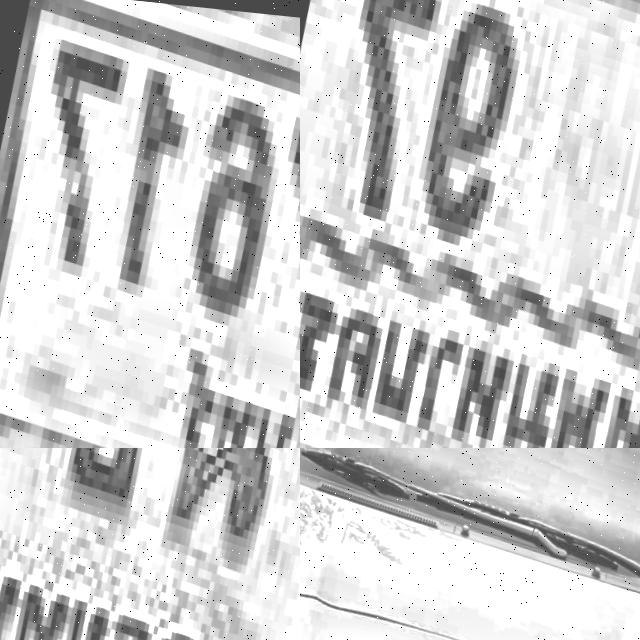license-plate: (300, 0, 640, 448), (0, 0, 300, 448), (0, 448, 300, 640)
